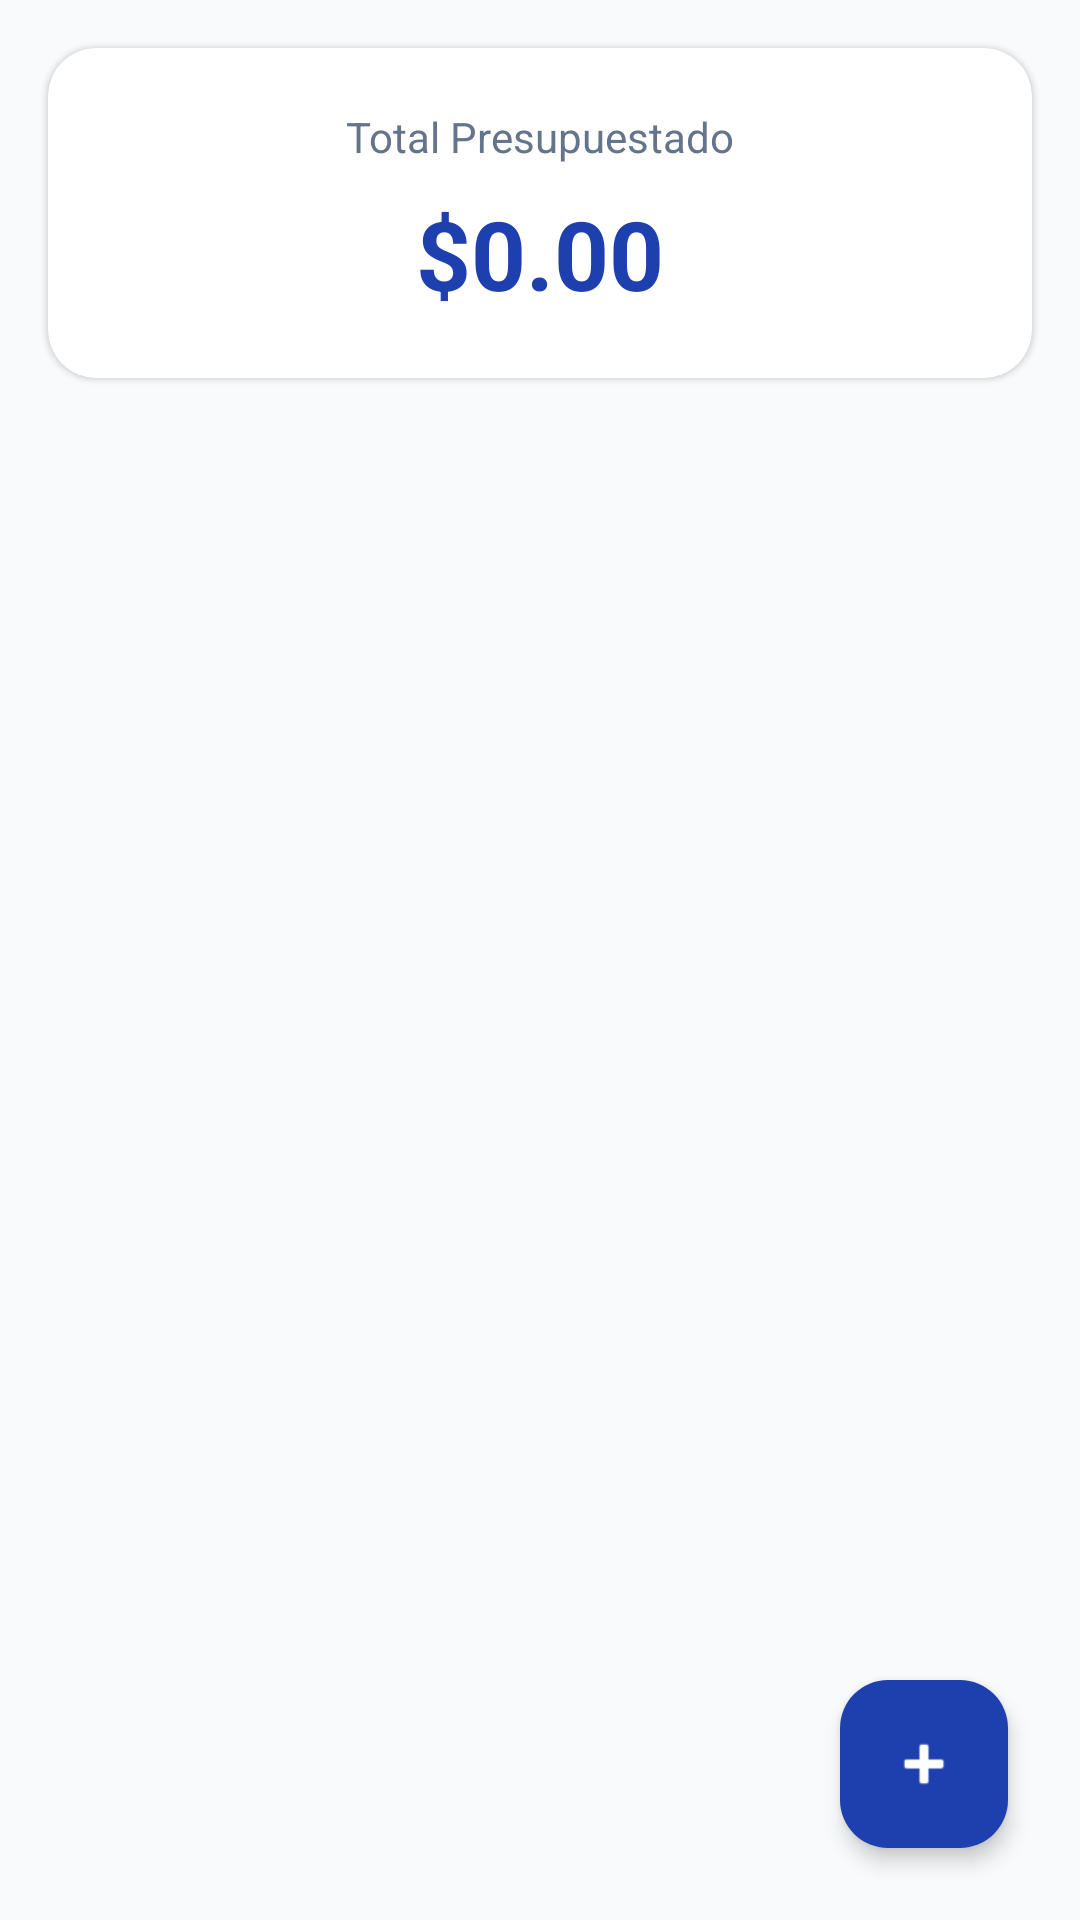

Screen size 1080px×1920px. Icon name, then its box in pixels as detection(x1, y1, x2, y2):
Agregar presupuesto: detection(840, 1680, 1008, 1848)
